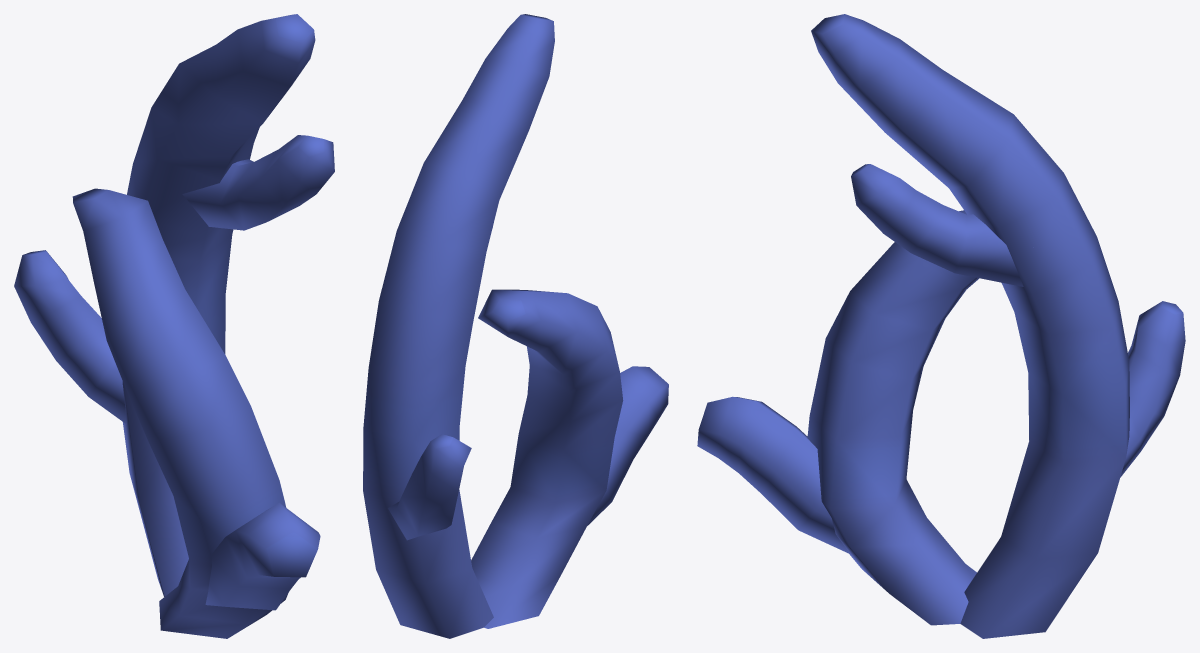
The model's file is Sunken Tomb Glowy Coral 2.fbx.
3 views of the same model, side by side, from view 1: azimuth 30°, elevation 25°; view 2: azimuth 150°, elevation 25°; view 3: azimuth 270°, elevation 25° (orthographic). The views are drawn at different scales.
Parts seen in each view (by area): view 1: Glowy Coral 2; view 2: Glowy Coral 2; view 3: Glowy Coral 2.
Part boxes in pixels (x1,y1,x2,y2): Glowy Coral 2: (14, 14, 334, 638); Glowy Coral 2: (363, 14, 668, 638); Glowy Coral 2: (697, 14, 1185, 638).
Size of the model in its own units: 215 by 651 by 485.
